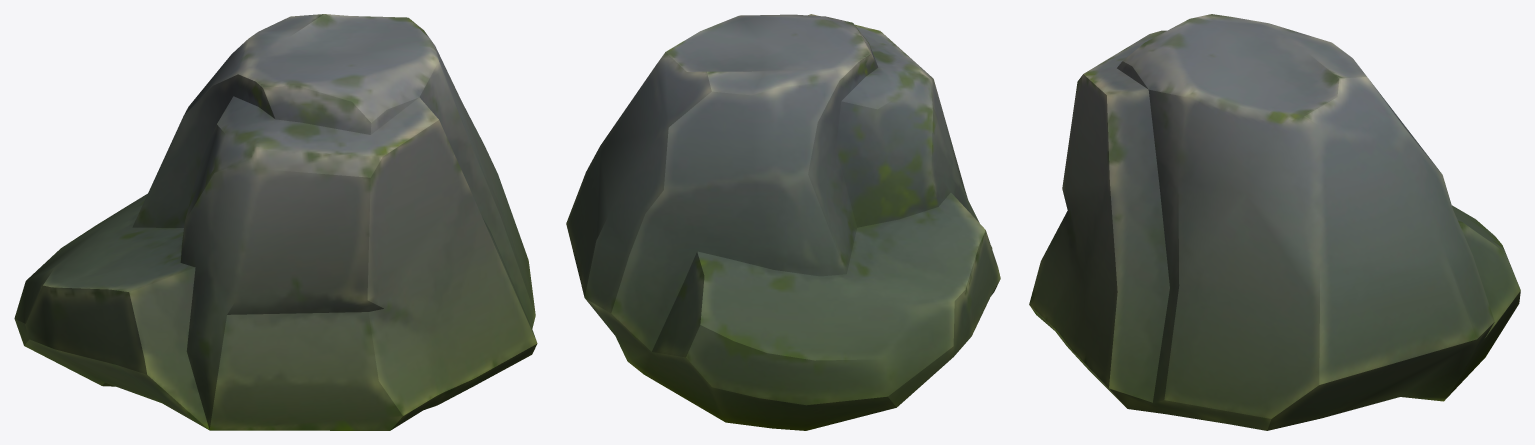
Rendered from Rock_Medium_1.gltf.
3 views of the same model, side by side, from view 1: azimuth 30°, elevation 25°; view 2: azimuth 150°, elevation 25°; view 3: azimuth 270°, elevation 25° (orthographic). The views are drawn at different scales.
Visible parts, largest first — view 1: Rock_Medium_1; view 2: Rock_Medium_1; view 3: Rock_Medium_1.
Part boxes in pixels (left/top/right/bottom): Rock_Medium_1: left=14, top=14, right=537, bottom=430; Rock_Medium_1: left=566, top=14, right=1000, bottom=430; Rock_Medium_1: left=1029, top=14, right=1520, bottom=430.
Size of the model in its own units: 3.23 by 2.26 by 2.99.
Materials: 1 (1 with a texture image).
